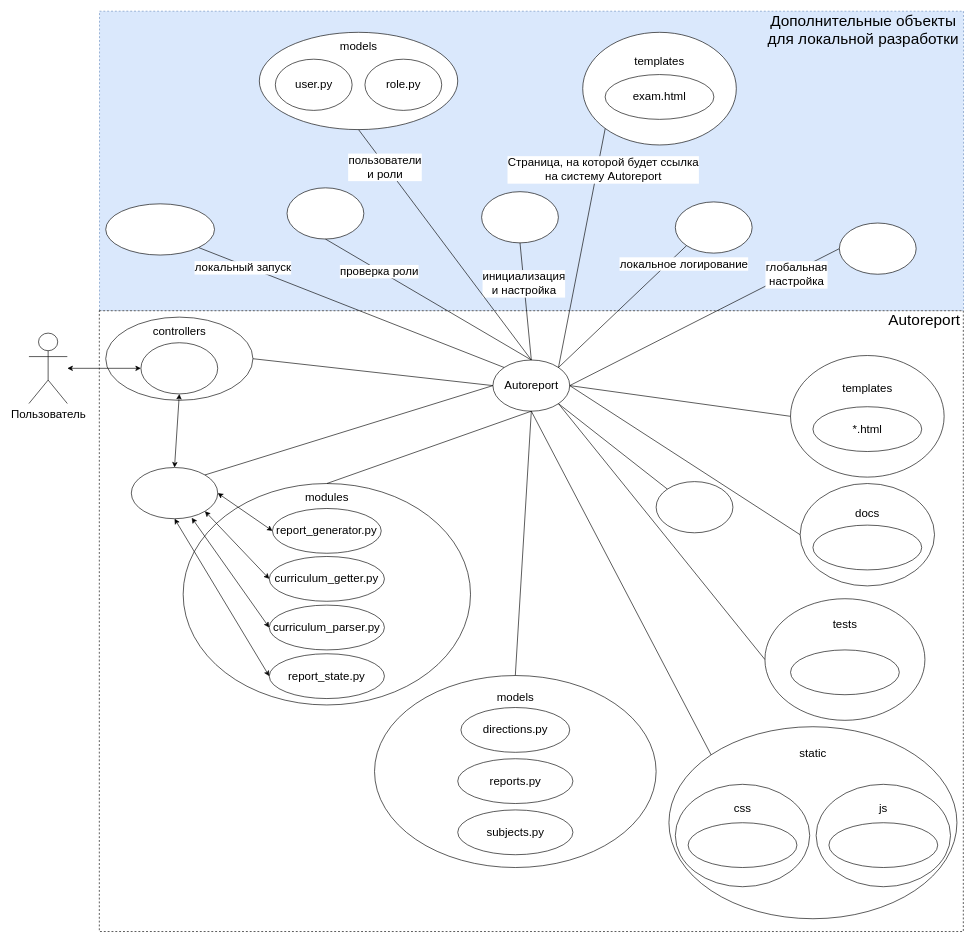
Some shapes in this 975 by 943 pixel diagram are drawn without their labels. Here are the shapes that lost their labels. From the top down, the centre of each, then its label:
At pixel 160 229: "runlocalserver.py".
At pixel 325 213: "utils.py".
At pixel 519 217: "__init__.py".
At pixel 713 227: "autoreport.log".
At pixel 877 248: "config.py".
At pixel 179 368: "autoreport.py".
At pixel 174 493: "funcs.py".
At pixel 694 507: "config.txt".
At pixel 867 547: "*.doc".
At pixel 844 672: "test_app.py".
At pixel 742 845: "*.css".
At pixel 883 845: "*.js".
